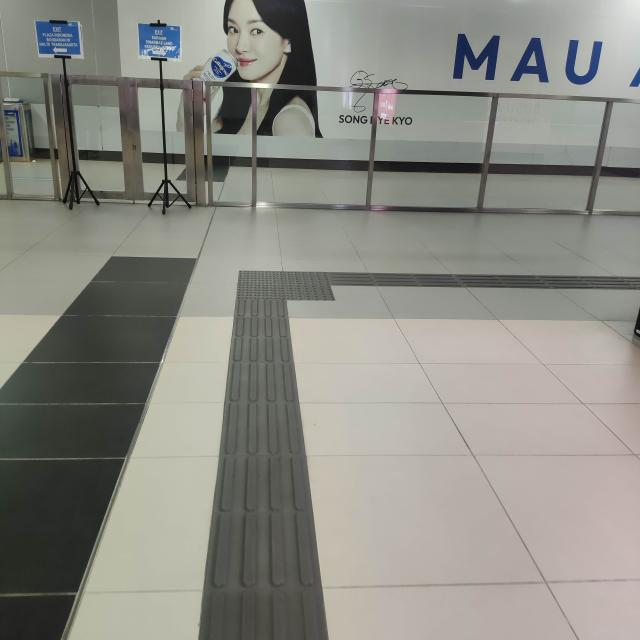kanan: (210, 253, 415, 313)
